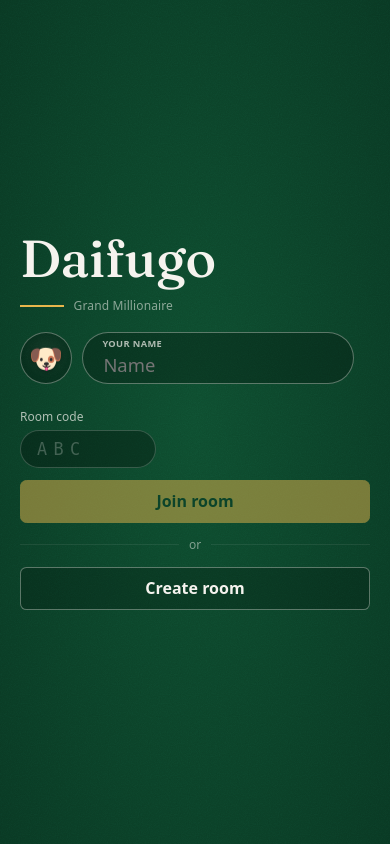
HostPanel › is inert once the match has ended
Type "Will" into the field labelled "Your name" at point(218, 358), box [82, 332, 354, 384]
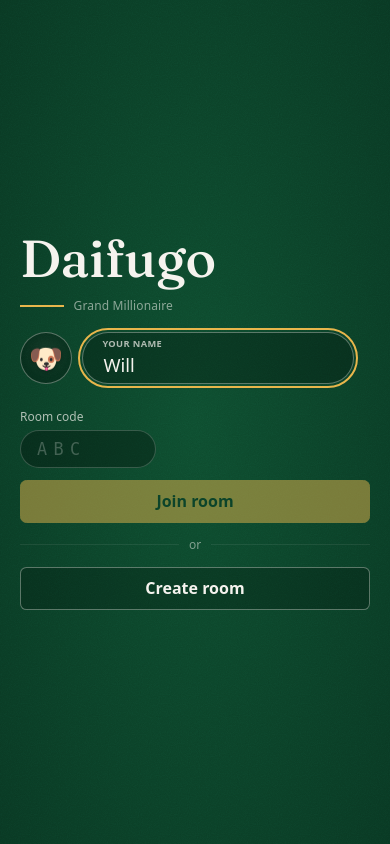
Type "ABC234" into the field labelled "Room code" at point(88, 449), box [20, 430, 156, 468]
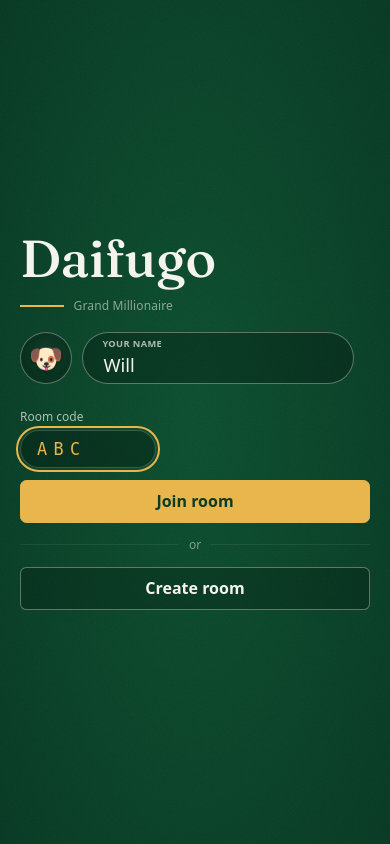
Click the button "Join room" at point(195, 501), box [20, 480, 370, 523]
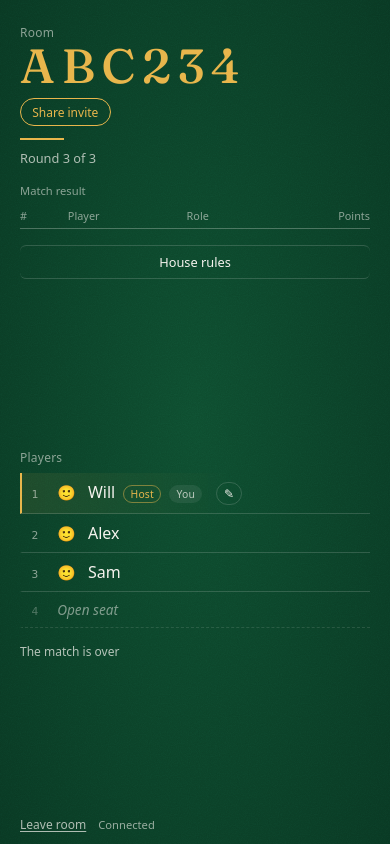
Click the button "House rules" at point(195, 262), box [20, 245, 370, 279]
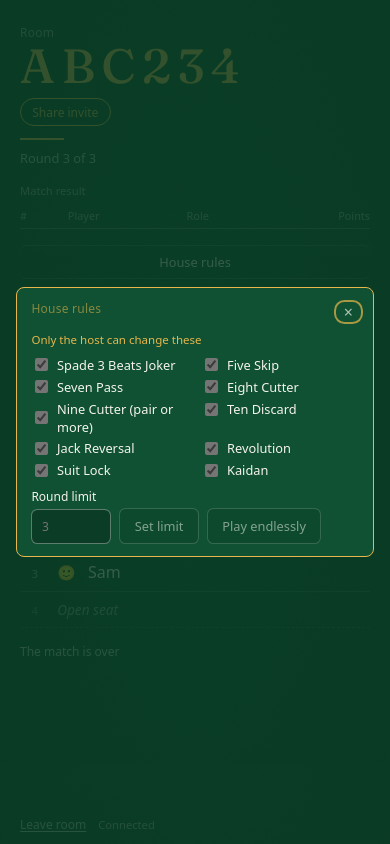
Now the checkbox labelled "Eight Cutter" is disabled, box [205, 380, 218, 393]
